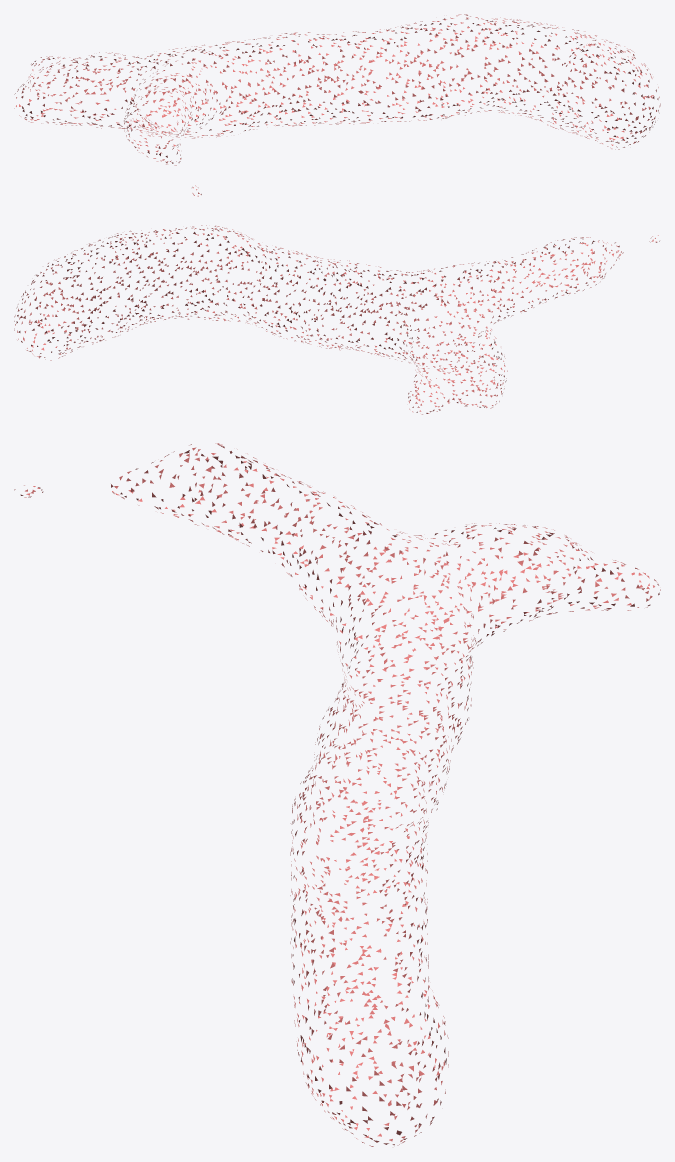
The model's file is morph_000.glb.
The picture shows the model from 3 angles, top to bottom: view 1: azimuth 30°, elevation 25°; view 2: azimuth 150°, elevation 25°; view 3: azimuth 270°, elevation 25°; orthographic projection. The views are drawn at different scales.
Bounding box in the file's own units: 128 × 45.43 × 83.8.
